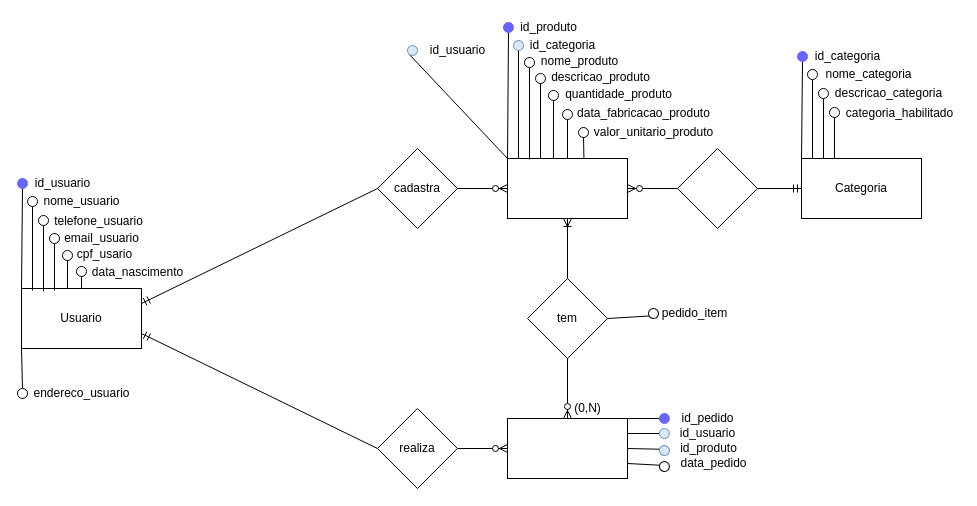
This 977x506 diagram has some shape labels left out. The centre of each missing label's shape, as x and y in pixels:
"Pedido" belongs at [567,448].
"pertence" belongs at [717,188].
"Produto" belongs at [567,188].
